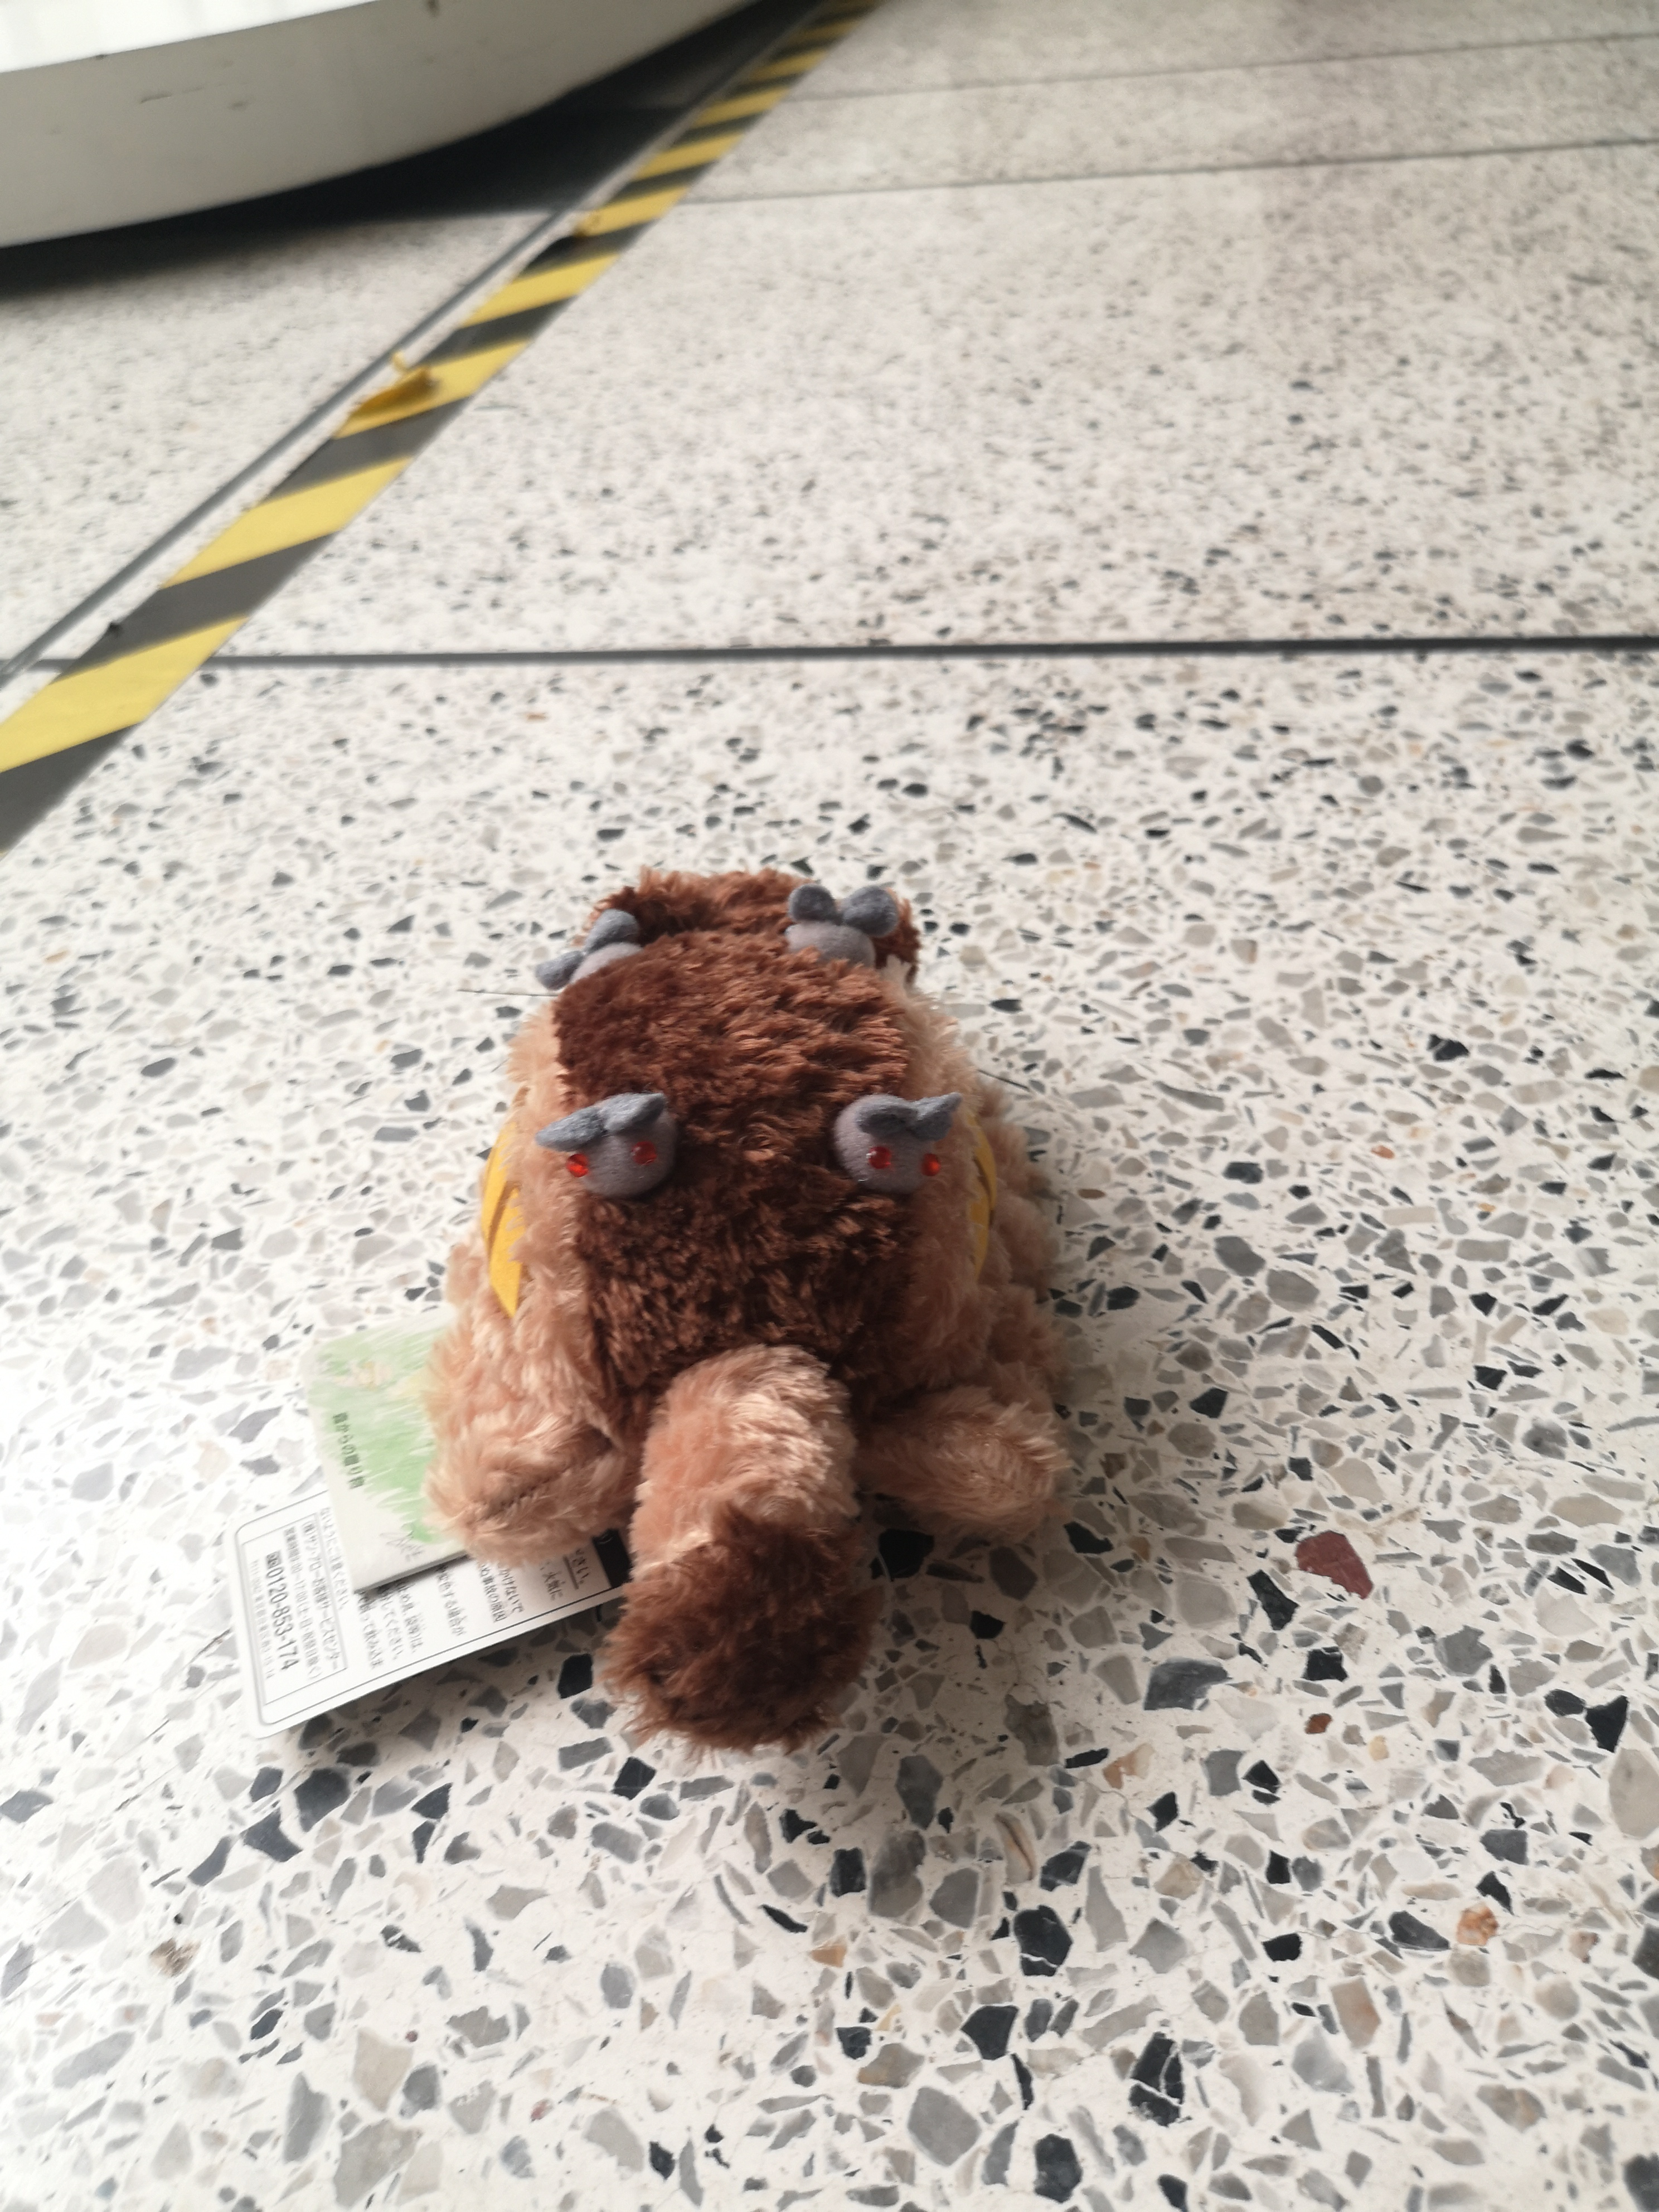nekobus: (416, 841, 1086, 1796)
